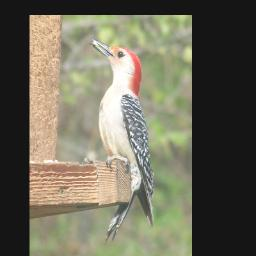Woodpecker: (88, 37, 154, 245)
